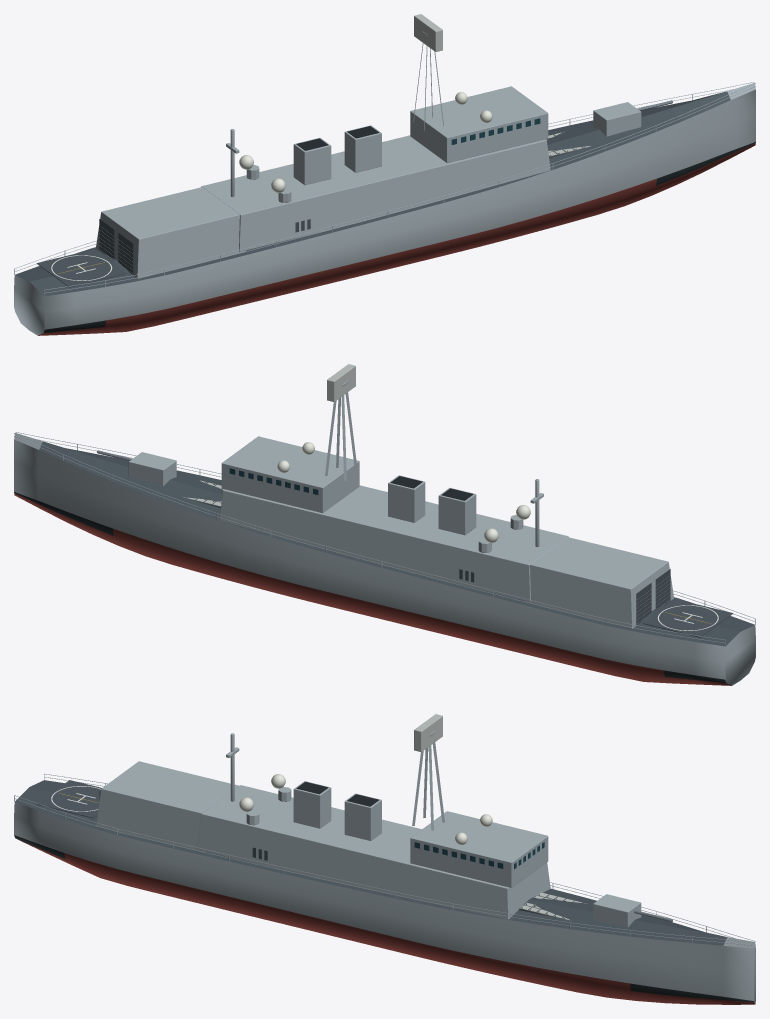
File: rfn_ffg_admiral_grigorovich.glb
3 renders of one model, top to bottom at view 1: azimuth 30°, elevation 25°; view 2: azimuth 150°, elevation 25°; view 3: azimuth 330°, elevation 25°, orthographic.
Visible parts, largest first — view 1: rfn_ffg_admiral_grigorovich; view 2: rfn_ffg_admiral_grigorovich; view 3: rfn_ffg_admiral_grigorovich.
Boxes of the visible parts, x1=… form: rfn_ffg_admiral_grigorovich: x1=14, y1=14, x2=755, y2=335; rfn_ffg_admiral_grigorovich: x1=14, y1=364, x2=755, y2=685; rfn_ffg_admiral_grigorovich: x1=14, y1=714, x2=755, y2=1004.
Bounding box in the file's own units: 10 × 2.97 × 1.19.
